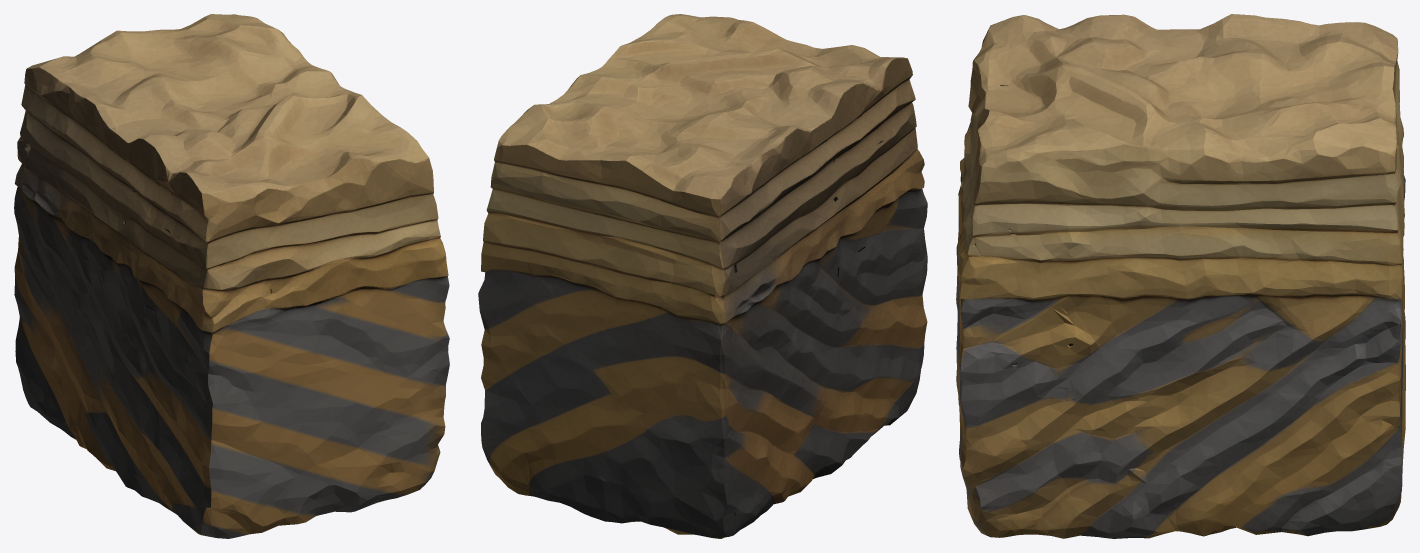
3 renders of one model, left to right at view 1: azimuth 30°, elevation 25°; view 2: azimuth 150°, elevation 25°; view 3: azimuth 270°, elevation 25°, orthographic. The views are drawn at different scales.
Parts seen in each view (by area): view 1: world; view 2: world; view 3: world.
Boxes of the visible parts, x1,y1,x2,y2 form: world: (14, 14, 449, 538); world: (478, 14, 927, 538); world: (956, 14, 1405, 538).
Bounding box in the file's own units: 0.7156 × 0.9962 × 0.9957.
3 materials, 2 textured.
